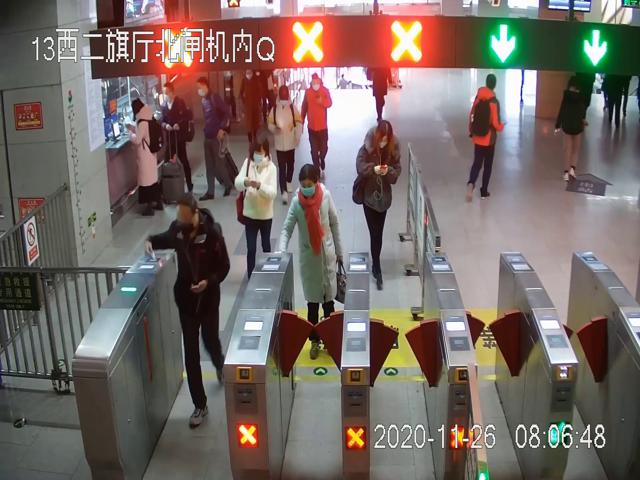person: (148, 193, 225, 427), (281, 164, 346, 358), (352, 120, 403, 289), (236, 135, 278, 280), (195, 77, 239, 199), (468, 73, 504, 202), (158, 82, 197, 201), (127, 98, 165, 216), (269, 86, 300, 204), (303, 73, 332, 172)
